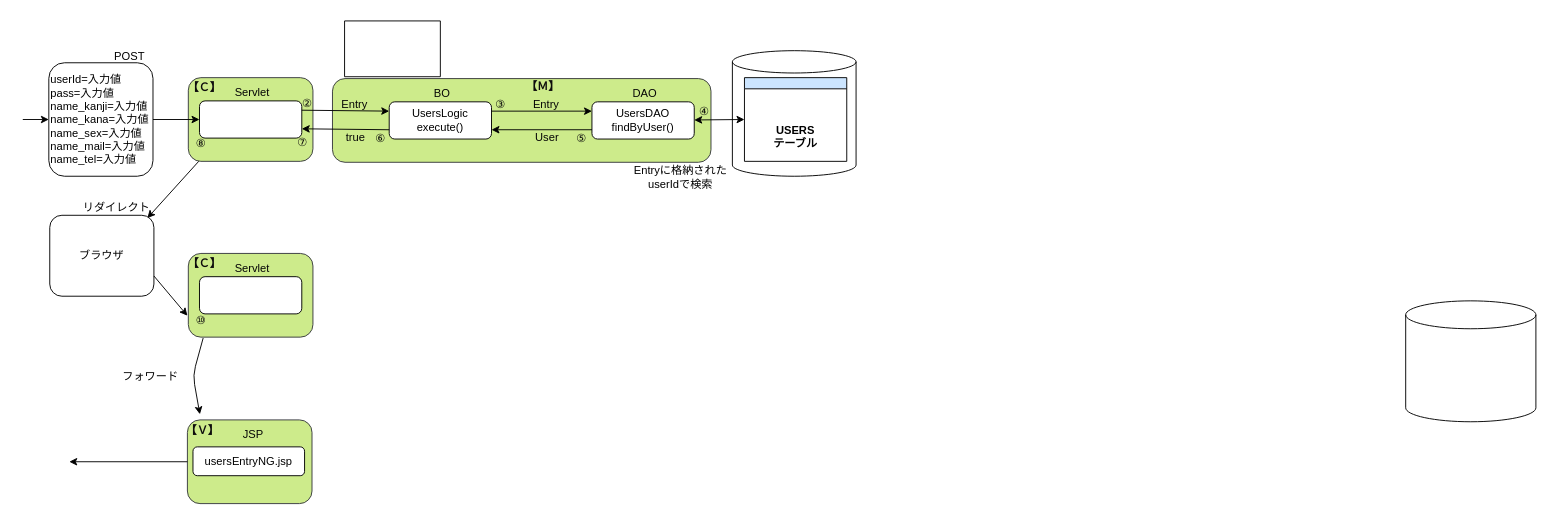
Image size: 1552x520. Some labels were removed from this diagram. Here are the shapes that lost their labels. From the top down, the box of each, then its label:
(344, 20, 440, 77): ［フィールド］ ・String userId
(199, 100, 302, 138): UsersEntryServlet doPost()
(199, 276, 302, 314): UsersEntryServlet doGet()
